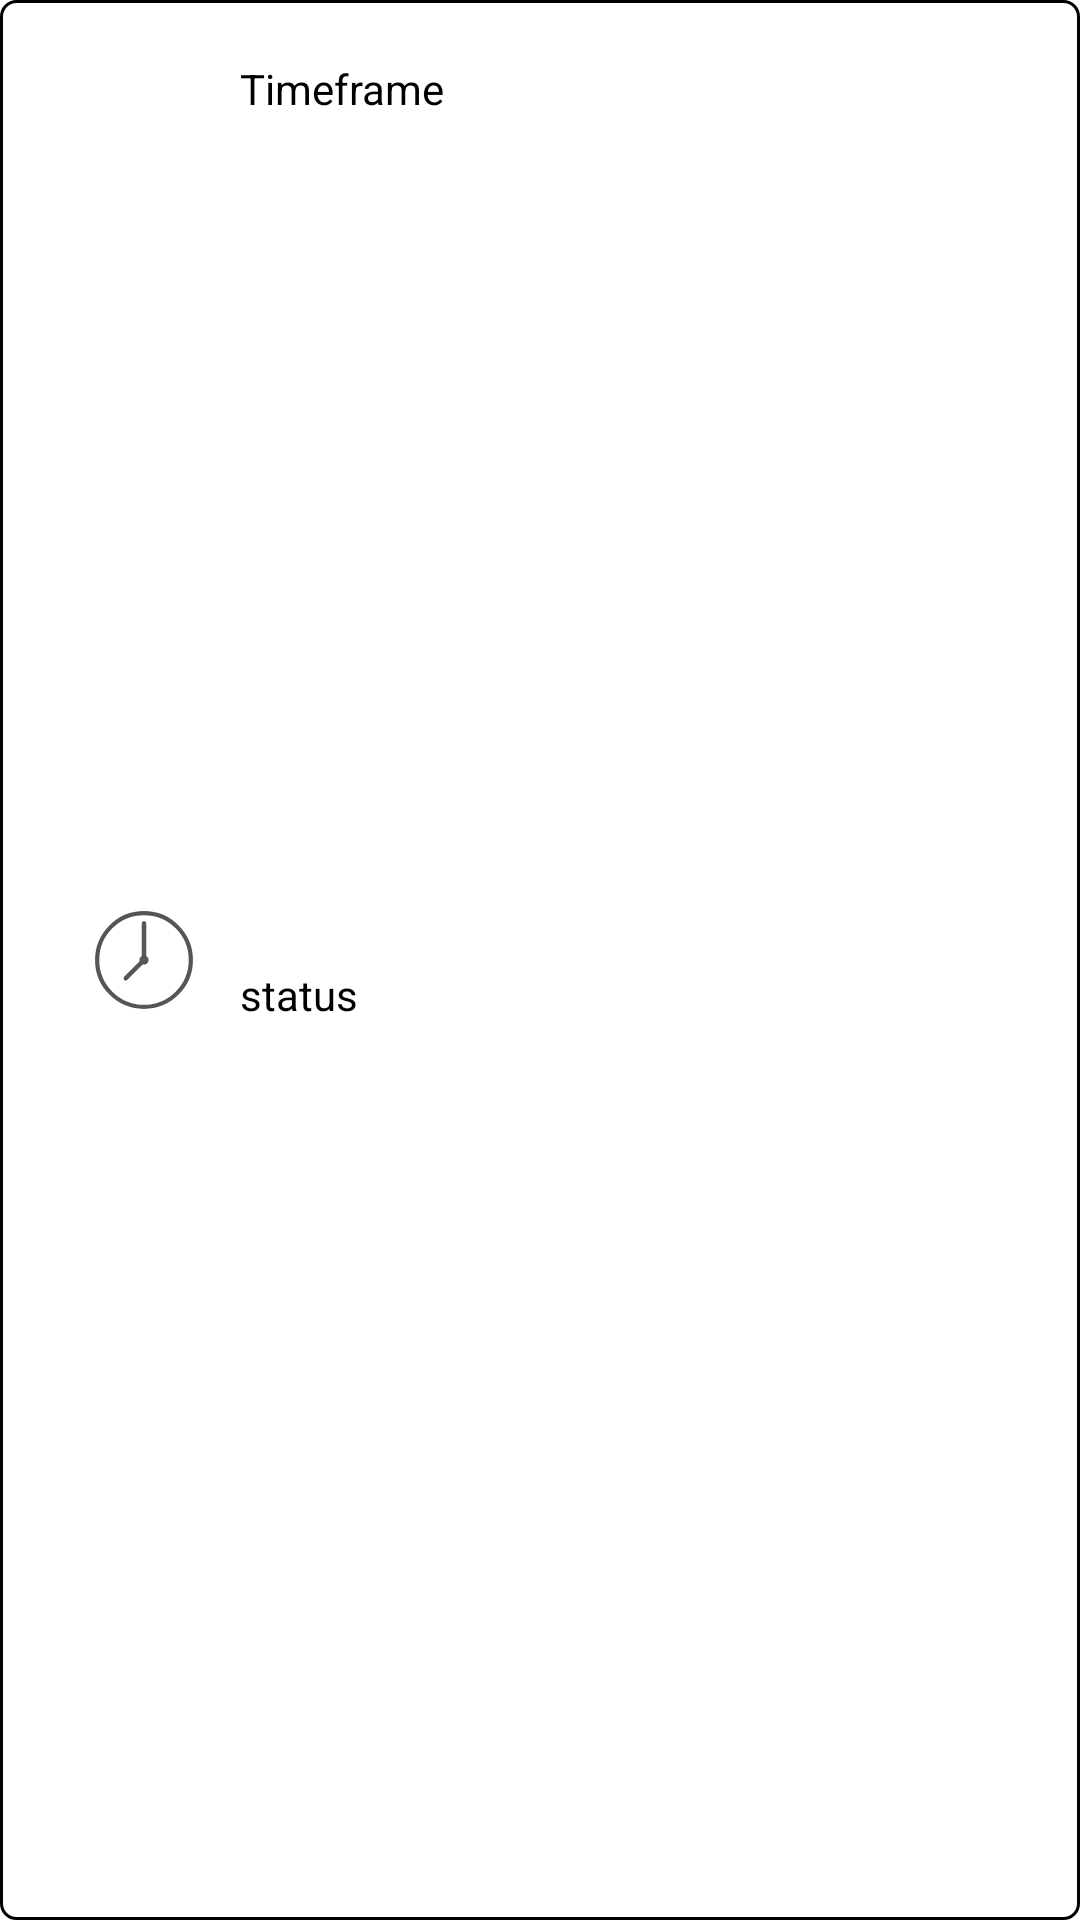

Icon click points for this 1080px×1920px phone screenshot, format (x=x, y=y):
Simplified clock image: (x=144, y=960)
